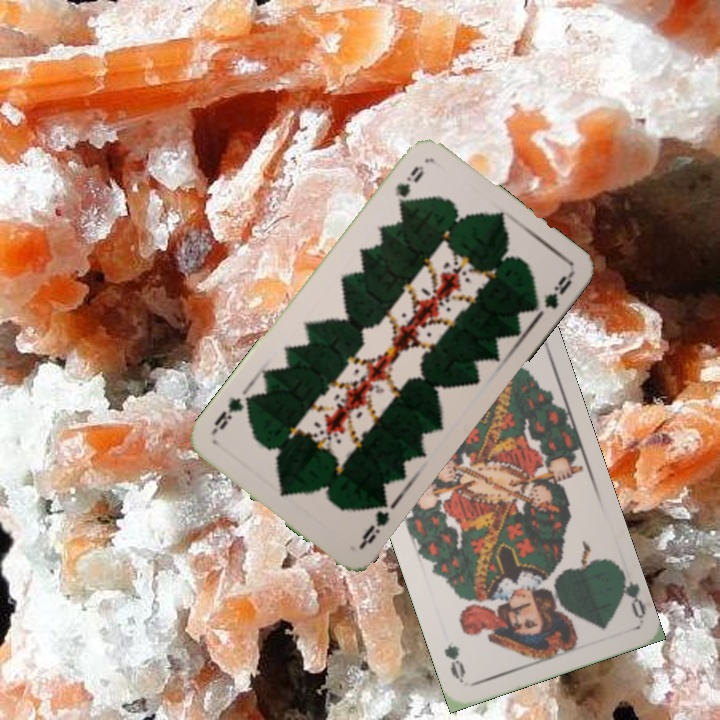G9: (356, 494, 392, 551), (391, 161, 427, 209)
GO: (615, 564, 648, 621)
